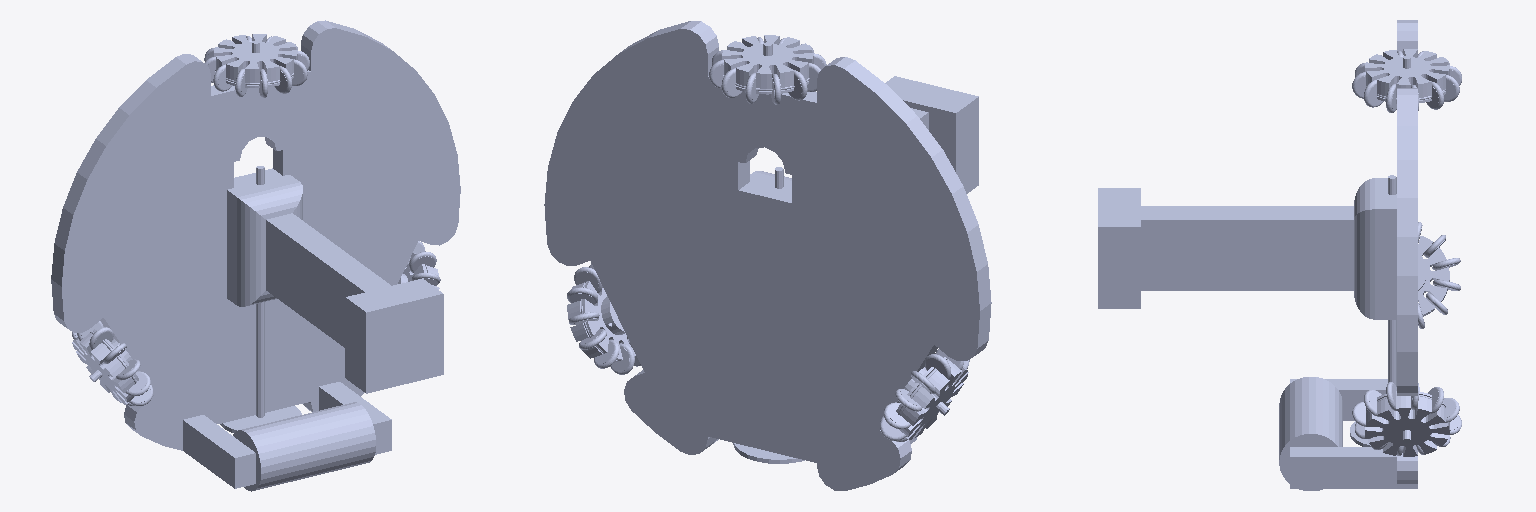
URDF robot description (mybot):
<?xml version="1.0" encoding="utf-8"?>
<!-- This URDF was automatically created by SolidWorks to URDF Exporter! Originally created by [author] ([email redacted]) 
     Commit Version: 1.6.0-4-g7f85cfe  Build Version: 1.6.7995.38578
     For more information, please see http://wiki.ros.org/sw_urdf_exporter -->
<robot
  name="mybot">
  <link
    name="base_link">
    <inertial>
      <origin
        xyz="0.0602709488473398 0.144158022556777 0.185058903823586"
        rpy="0 0 0" />
      <mass
        value="0.466929101148318" />
      <inertia
        ixx="0.00183089444256355"
        ixy="4.05101806684342E-07"
        ixz="1.09593862371939E-05"
        iyy="0.00181811654011815"
        iyz="1.39749864395947E-05"
        izz="0.00198529296777552" />
    </inertial>
    <visual>
      <origin
        xyz="0 0 0"
        rpy="0 0 0" />
      <geometry>
        <mesh
          filename="package://mybot/meshes/base_link.STL" />
      </geometry>
      <material
        name="">
        <color
          rgba="0.792156862745098 0.819607843137255 0.933333333333333 1" />
      </material>
    </visual>
    <collision>
      <origin
        xyz="0 0 0"
        rpy="0 0 0" />
      <geometry>
        <mesh
          filename="package://mybot/meshes/base_link.STL" />
      </geometry>
    </collision>
  </link>
  <link
    name="1Link">
    <inertial>
      <origin
        xyz="4.47045456208883E-11 8.17671241934437E-06 -0.0358037441768474"
        rpy="0 0 0" />
      <mass
        value="0.0147886905275021" />
      <inertia
        ixx="1.04119911352484E-06"
        ixy="2.10981936411372E-15"
        ixz="3.37244906580305E-15"
        iyy="1.0419471020661E-06"
        iyz="8.04059074996839E-10"
        izz="1.7100066719771E-06" />
    </inertial>
    <visual>
      <origin
        xyz="0 0 0"
        rpy="0 0 0" />
      <geometry>
        <mesh
          filename="package://mybot/meshes/1Link.STL" />
      </geometry>
      <material
        name="">
        <color
          rgba="0.796078431372549 0.823529411764706 0.937254901960784 1" />
      </material>
    </visual>
    <collision>
      <origin
        xyz="0 0 0"
        rpy="0 0 0" />
      <geometry>
        <mesh
          filename="package://mybot/meshes/1Link.STL" />
      </geometry>
    </collision>
  </link>
  <joint
    name="W1"
    type="continuous">
    <origin
      xyz="-0.050661 -0.16348 0.079272"
      rpy="2.1066 -0.20312 -1.69" />
    <parent
      link="base_link" />
    <child
      link="1Link" />
    <axis
      xyz="0 0 1" />
    <limit
      lower="0"
      upper="0"
      effort="0"
      velocity="0" />
  </joint>
  <link
    name="2Link">
    <inertial>
      <origin
        xyz="3.25559579295032E-11 8.17688159190227E-06 0.00842976598063649"
        rpy="0 0 0" />
      <mass
        value="0.0147886899962811" />
      <inertia
        ixx="1.04119911054896E-06"
        ixy="1.40655384839249E-15"
        ixz="2.75934395229218E-15"
        iyy="1.0419471135416E-06"
        iyz="8.04056832387737E-10"
        izz="1.7100066587219E-06" />
    </inertial>
    <visual>
      <origin
        xyz="0 0 0"
        rpy="0 0 0" />
      <geometry>
        <mesh
          filename="package://mybot/meshes/2Link.STL" />
      </geometry>
      <material
        name="">
        <color
          rgba="0.796078431372549 0.823529411764706 0.937254901960784 1" />
      </material>
    </visual>
    <collision>
      <origin
        xyz="0 0 0"
        rpy="0 0 0" />
      <geometry>
        <mesh
          filename="package://mybot/meshes/2Link.STL" />
      </geometry>
    </collision>
  </link>
  <joint
    name="W2"
    type="continuous">
    <origin
      xyz="0.060682 -0.16348 0.22789"
      rpy="0 0 -0.87293" />
    <parent
      link="base_link" />
    <child
      link="2Link" />
    <axis
      xyz="0 0 1" />
    <limit
      lower="0"
      upper="0"
      effort="0"
      velocity="0" />
  </joint>
  <link
    name="3Link">
    <inertial>
      <origin
        xyz="4.47060582997594E-11 8.17671241962192E-06 0.00467976602749681"
        rpy="0 0 0" />
      <mass
        value="0.0147886905275021" />
      <inertia
        ixx="1.04119911352484E-06"
        ixy="2.10981933764394E-15"
        ixz="3.37244840660673E-15"
        iyy="1.0419471020661E-06"
        iyz="8.04059074997111E-10"
        izz="1.7100066719771E-06" />
    </inertial>
    <visual>
      <origin
        xyz="0 0 0"
        rpy="0 0 0" />
      <geometry>
        <mesh
          filename="package://mybot/meshes/3Link.STL" />
      </geometry>
      <material
        name="">
        <color
          rgba="0.796078431372549 0.823529411764706 0.937254901960784 1" />
      </material>
    </visual>
    <collision>
      <origin
        xyz="0 0 0"
        rpy="0 0 0" />
      <geometry>
        <mesh
          filename="package://mybot/meshes/3Link.STL" />
      </geometry>
    </collision>
  </link>
  <joint
    name="W3"
    type="continuous">
    <origin
      xyz="0.13697 -0.16348 0.099514"
      rpy="2.8467 -1.021 0.34221" />
    <parent
      link="base_link" />
    <child
      link="3Link" />
    <axis
      xyz="0 0 1" />
    <limit
      lower="0"
      upper="0"
      effort="0"
      velocity="0" />
  </joint>
  <link
    name="4Link">
    <inertial>
      <origin
        xyz="0 0 -0.0336941"
        rpy="0 0 0" />
      <mass
        value="0.0451206375403221" />
      <inertia
        ixx="1.78611798358203E-05"
        ixy="0"
        ixz="5.50988136138283E-22"
        iyy="1.78611798358203E-05"
        iyz="1.43039888619215E-23"
        izz="5.04465579675033E-06" />
    </inertial>
    <visual>
      <origin
        xyz="0 0 0"
        rpy="0 0 0" />
      <geometry>
        <mesh
          filename="package://mybot/meshes/4Link.STL" />
      </geometry>
      <material
        name="">
        <color
          rgba="0.792156862745098 0.819607843137255 0.933333333333333 1" />
      </material>
    </visual>
    <collision>
      <origin
        xyz="0 0 0"
        rpy="0 0 0" />
      <geometry>
        <mesh
          filename="package://mybot/meshes/4Link.STL" />
      </geometry>
    </collision>
  </link>
  <joint
    name="D4"
    type="continuous">
    <origin
      xyz="0.026988 -0.20848 0.052978"
      rpy="1.5708 0.28985 -1.5708" />
    <parent
      link="base_link" />
    <child
      link="4Link" />
    <axis
      xyz="0 0 1" />
    <limit
      lower="0"
      upper="0"
      effort="0"
      velocity="0" />
  </joint>
  <link
    name="5Link">
    <inertial>
      <origin
        xyz="0 0 -0.0273187311178248"
        rpy="0 0 0" />
      <mass
        value="0.00415946867335289" />
      <inertia
        ixx="7.00672811498495E-06"
        ixy="0"
        ixz="-2.37612402208306E-21"
        iyy="7.00672811498495E-06"
        iyz="1.23816930372388E-21"
        izz="5.05947213675328E-07" />
    </inertial>
    <visual>
      <origin
        xyz="0 0 0"
        rpy="0 0 0" />
      <geometry>
        <mesh
          filename="package://mybot/meshes/5Link.STL" />
      </geometry>
      <material
        name="">
        <color
          rgba="0.792156862745098 0.819607843137255 0.933333333333333 1" />
      </material>
    </visual>
    <collision>
      <origin
        xyz="0 0 0"
        rpy="0 0 0" />
      <geometry>
        <mesh
          filename="package://mybot/meshes/5Link.STL" />
      </geometry>
    </collision>
  </link>
  <joint
    name="K5"
    type="prismatic">
    <origin
      xyz="0.059096 -0.17048 0.052173"
      rpy="-3.1416 0 -2.0675" />
    <parent
      link="base_link" />
    <child
      link="5Link" />
    <axis
      xyz="0 0 1" />
    <limit
      lower="0"
      upper="0.03"
      effort="1"
      velocity="1" />
  </joint>
</robot>

--- Render facts (derived) ---
3 views of the same robot in one strip: view 1: azimuth 30°, elevation 25°; view 2: azimuth 150°, elevation 25°; view 3: azimuth 270°, elevation 25° (orthographic).
Model mybot with 6 links and 5 joints (4 continuous, 1 prismatic), rooted at base_link, posed all joints at 0.
Links seen in each view (by area): view 1: base_link, 4Link, 2Link, 1Link, 5Link, 3Link; view 2: base_link, 2Link, 3Link, 1Link, 5Link; view 3: base_link, 3Link, 2Link, 4Link, 1Link, 5Link.
Link boxes in pixels (x1,y1,x2,y2): base_link: [51, 20, 460, 488]; 4Link: [233, 402, 375, 491]; 2Link: [204, 34, 309, 97]; 1Link: [72, 321, 152, 405]; 5Link: [220, 166, 301, 432]; 3Link: [398, 241, 440, 289]; base_link: [544, 21, 991, 490]; 2Link: [709, 35, 826, 104]; 3Link: [567, 263, 640, 374]; 1Link: [880, 349, 969, 441]; 5Link: [733, 167, 804, 463]; base_link: [1098, 20, 1417, 488]; 3Link: [1352, 382, 1461, 456]; 2Link: [1352, 49, 1461, 112]; 4Link: [1279, 377, 1342, 490]; 1Link: [1418, 222, 1460, 328]; 5Link: [1350, 175, 1396, 446].
Bounding box of the posed robot: 0.22 × 0.1708 × 0.2103 m (x, y, z).
Meshes: 6 distinct files referenced, 6 mesh visuals loaded (6 binary STL).